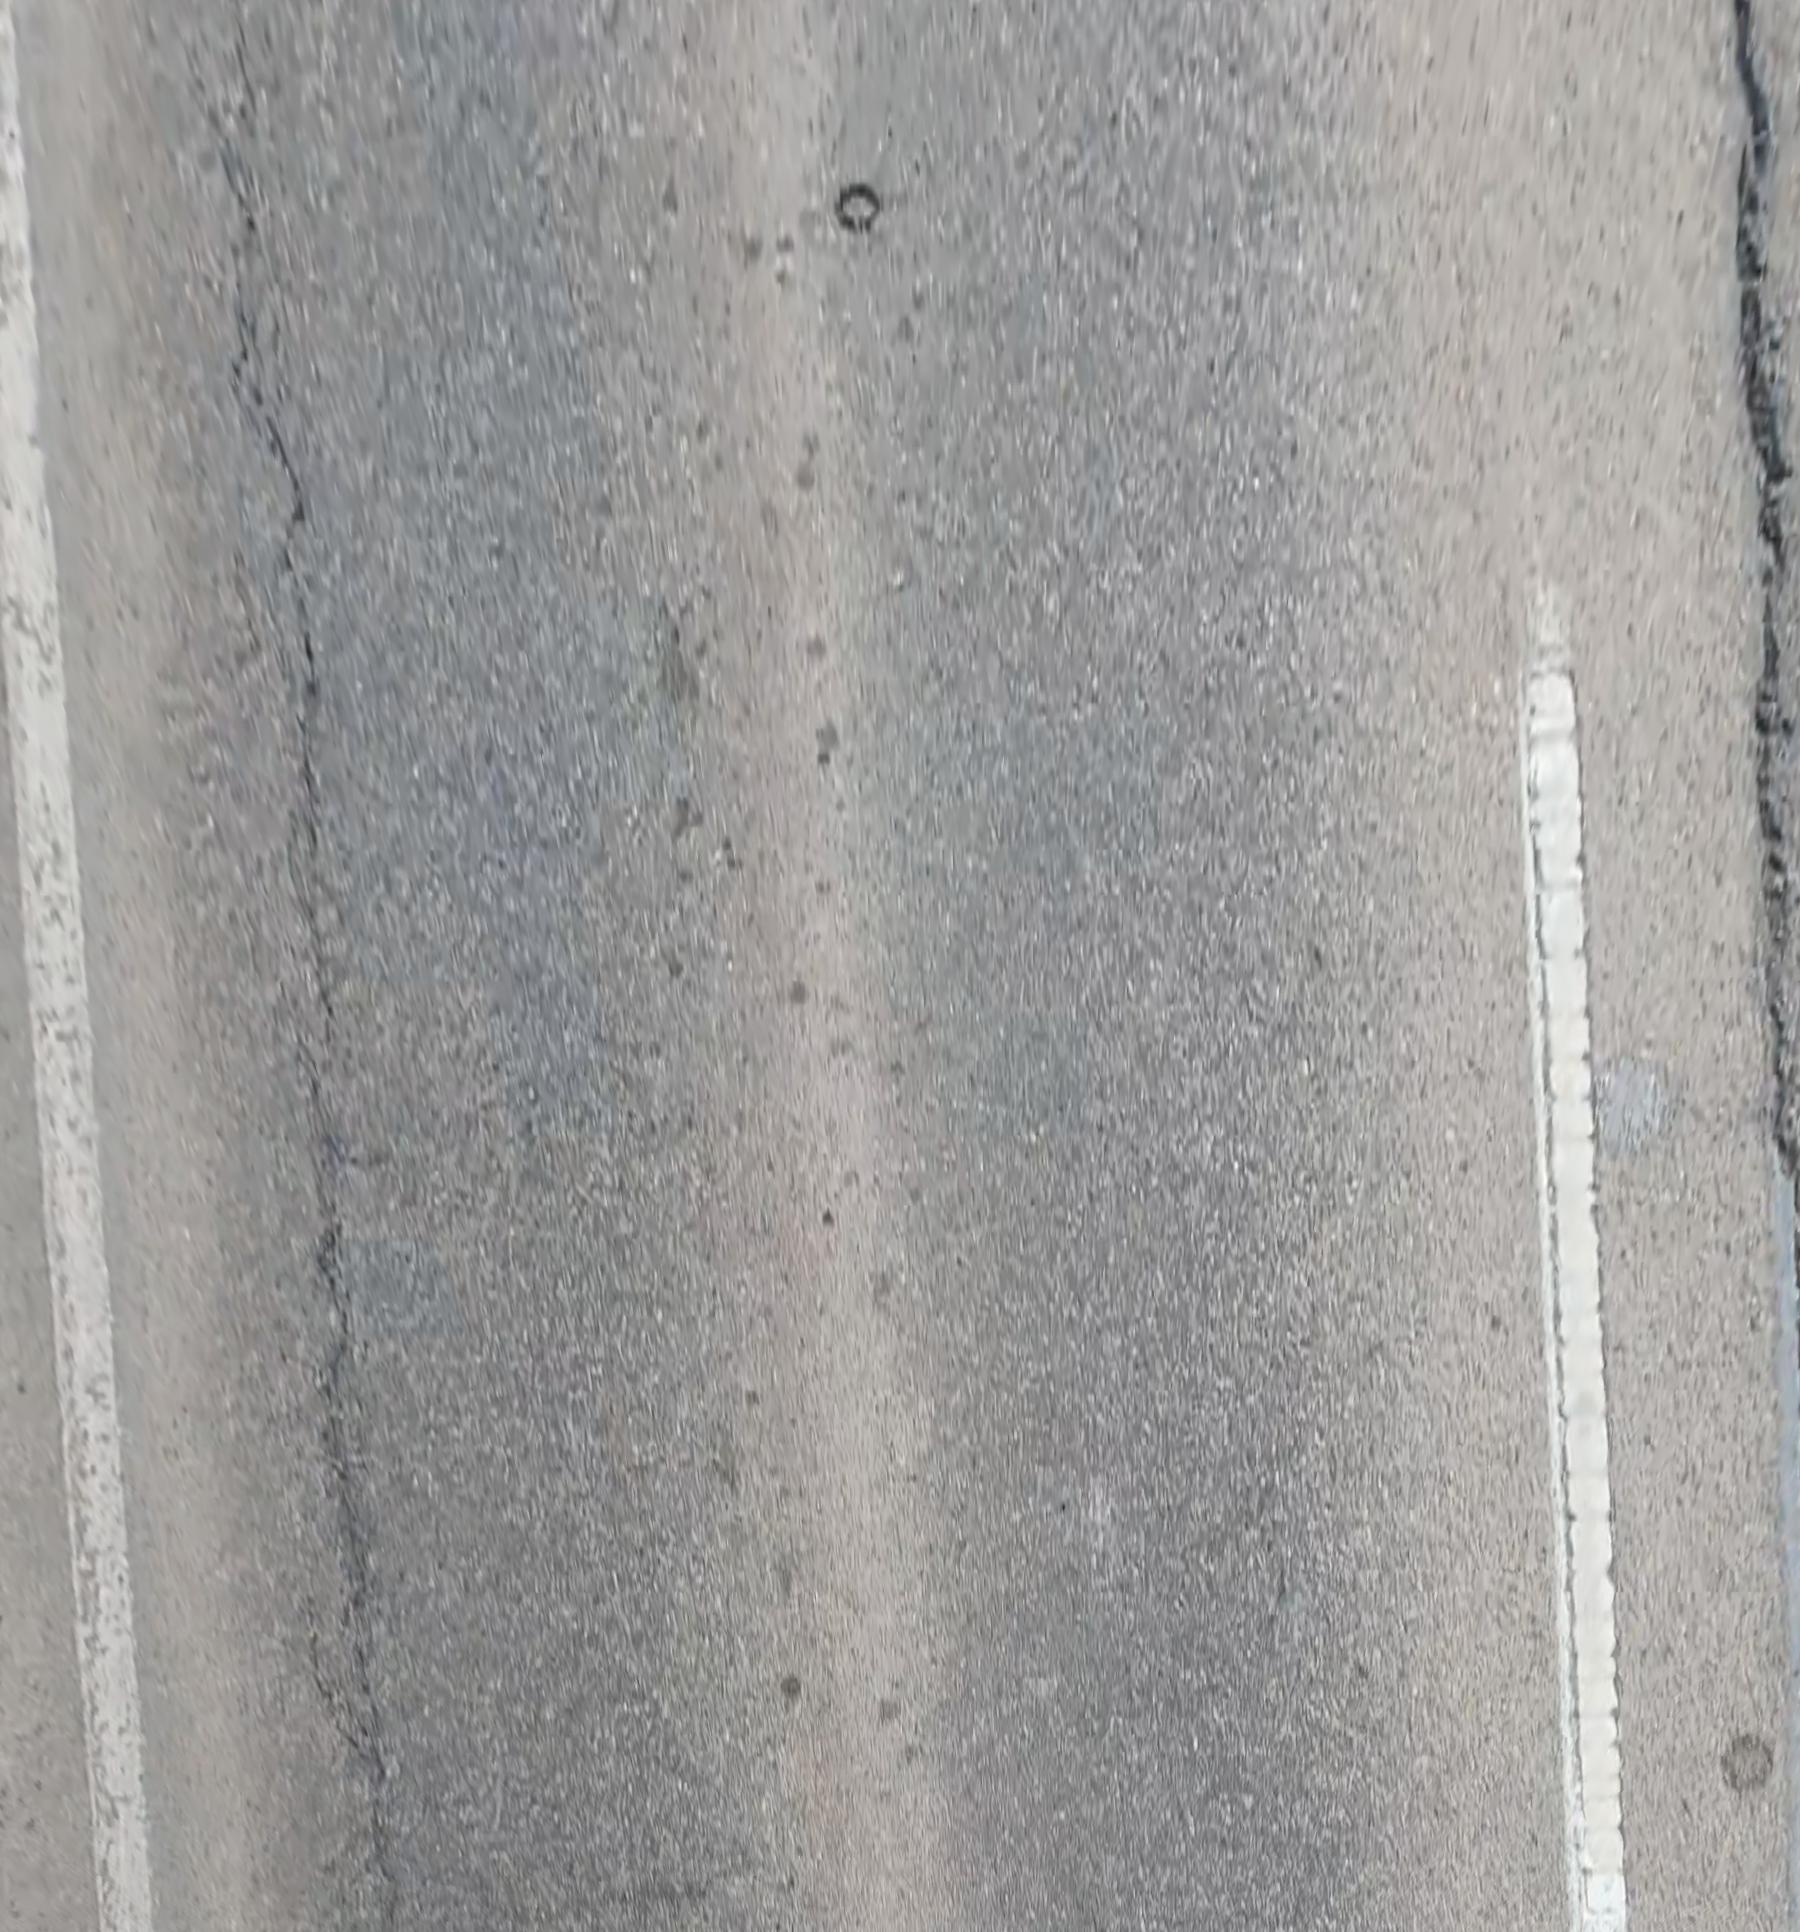pothole: (836, 181, 881, 230)
